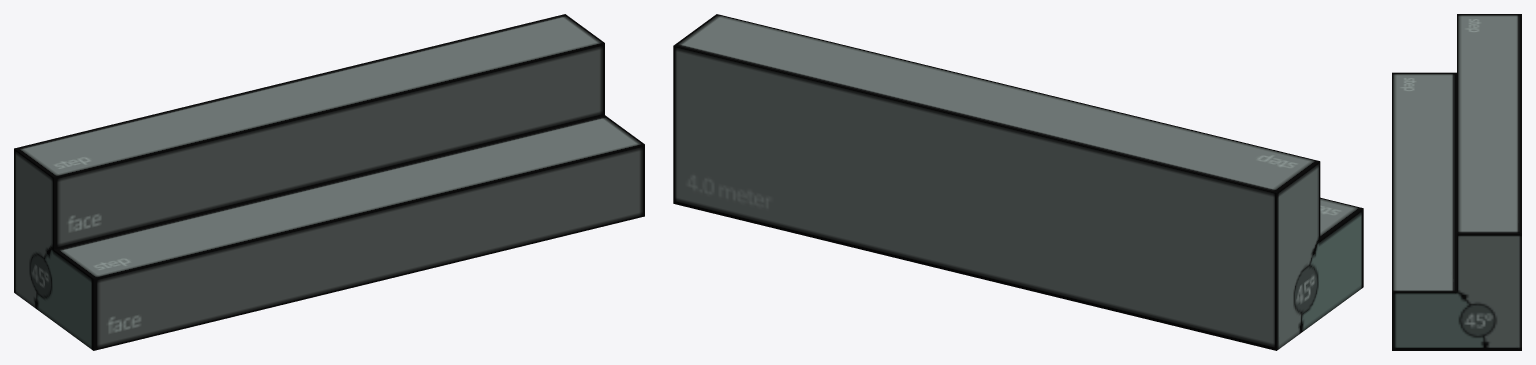
The model's file is Stairs_45_01.fbx.
3 views of the same model, side by side, from view 1: azimuth 30°, elevation 25°; view 2: azimuth 150°, elevation 25°; view 3: azimuth 270°, elevation 25° (orthographic). The views are drawn at different scales.
Parts seen in each view (by area): view 1: Stairs_45_01; view 2: Stairs_45_01; view 3: Stairs_45_01.
Part boxes in pixels (x1=…): Stairs_45_01: x1=14, y1=14, x2=644, y2=350; Stairs_45_01: x1=673, y1=14, x2=1363, y2=350; Stairs_45_01: x1=1392, y1=14, x2=1521, y2=350.
Bounding box in the file's own units: 4 × 1 × 1.
